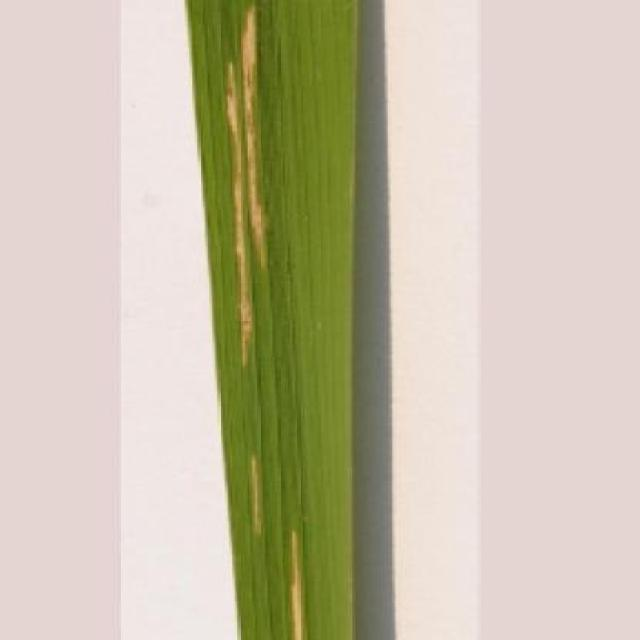Brown_Spot: (182, 0, 366, 640)
